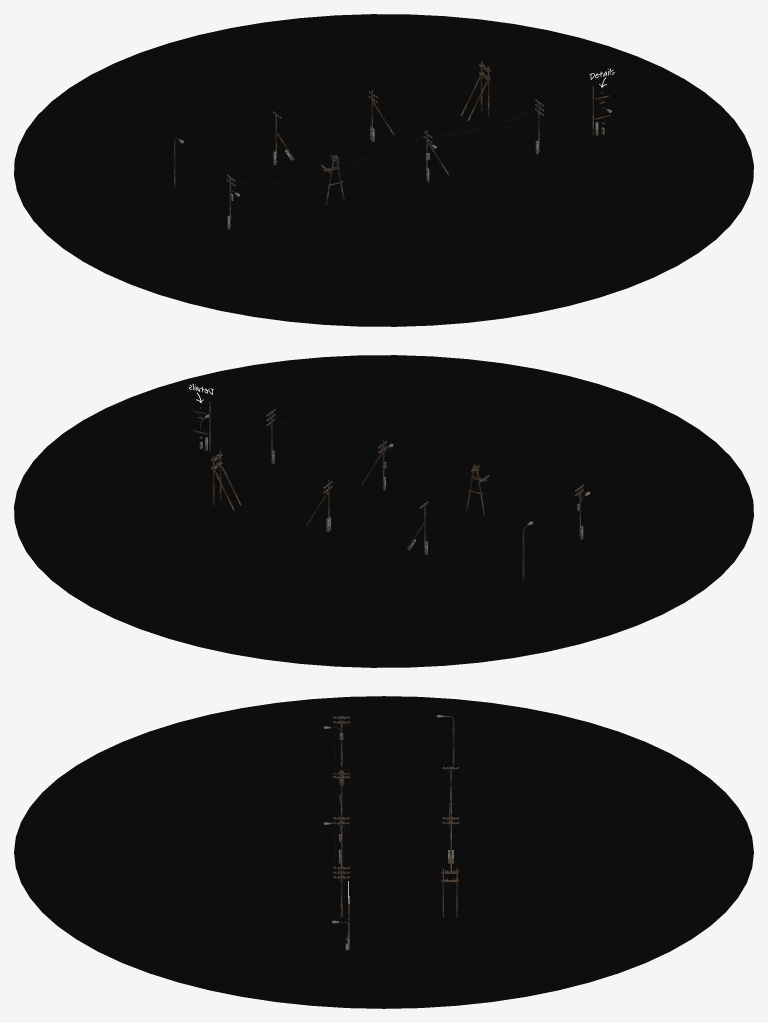
The model's file is abandoned_street_lights_pack.glb.
3 renders of one model, top to bottom at view 1: azimuth 30°, elevation 25°; view 2: azimuth 150°, elevation 25°; view 3: azimuth 270°, elevation 25°, orthographic.
Parts seen in each view (by area): view 1: Cylinder025, pillar_05; view 2: Cylinder025, pillar_05; view 3: Cylinder025.
Boxes of the visible parts, left/top/right/bottom form: Cylinder025: left=14, top=14, right=753, bottom=326; pillar_05: left=460, top=61, right=490, bottom=121; Cylinder025: left=14, top=355, right=753, bottom=667; pillar_05: left=210, top=451, right=241, bottom=510; Cylinder025: left=14, top=696, right=753, bottom=1008.
Size of the model in its own units: 89.57 by 10.28 by 89.57.
4 materials, 1 textured.
